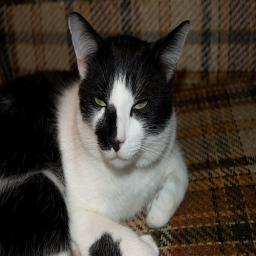catnose: (106, 134, 126, 154)
